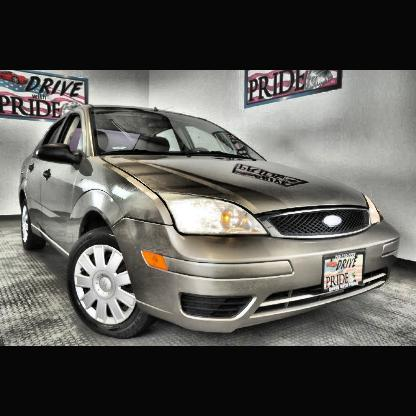Ford Focus Sedan 2007: (23, 105, 400, 335)
